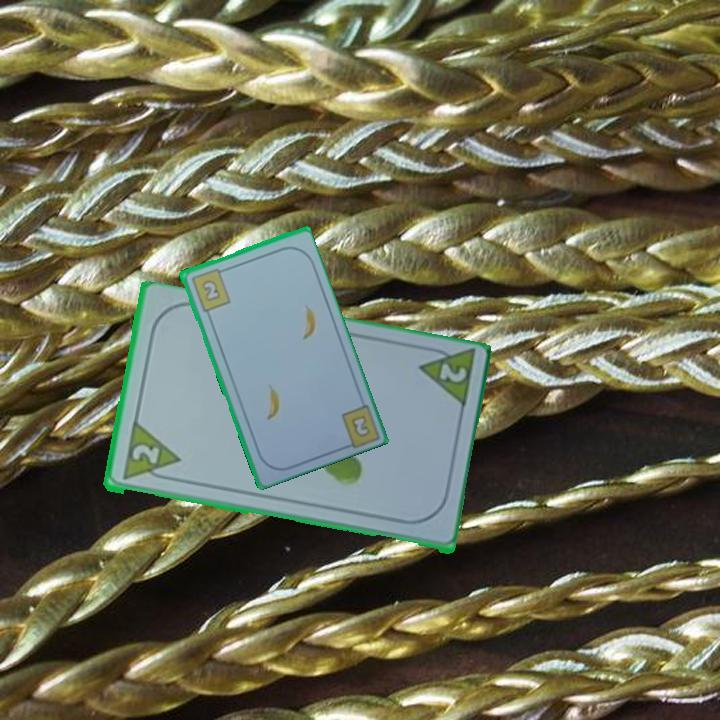2b: (187, 264, 233, 314), (347, 411, 373, 440)
2p: (118, 421, 182, 485), (435, 360, 469, 386)
